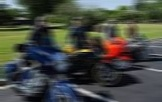Vehicle: (3, 36, 82, 102), (53, 38, 120, 88), (89, 36, 132, 68), (125, 33, 153, 59)
